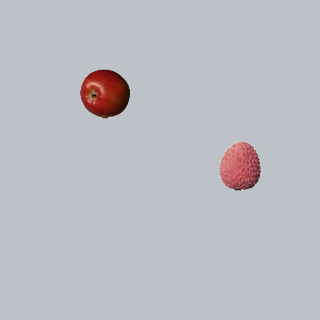Apple Braeburn: (79, 68, 129, 118)
Lychee: (214, 140, 264, 190)
